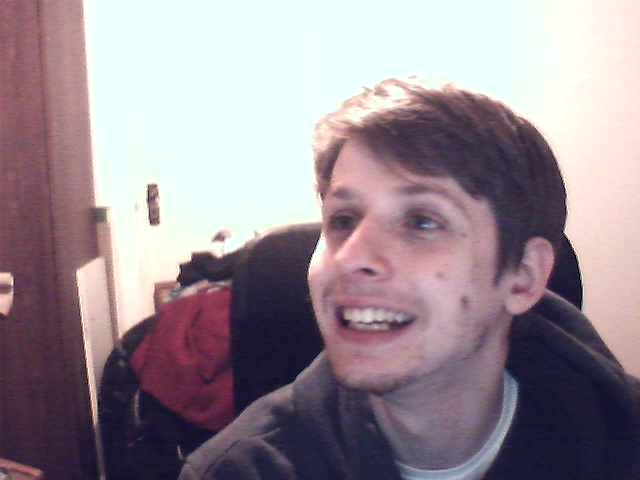noMask: (297, 245, 499, 383)
